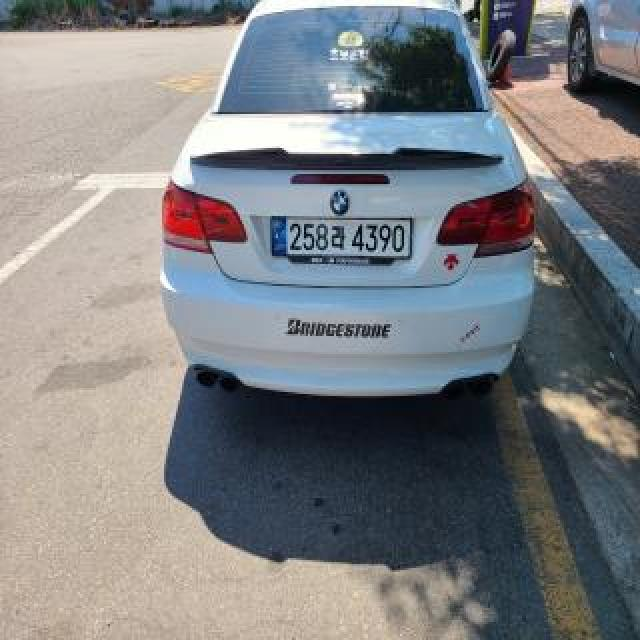car: (157, 0, 546, 409)
illegal_plate: (274, 215, 408, 263)
